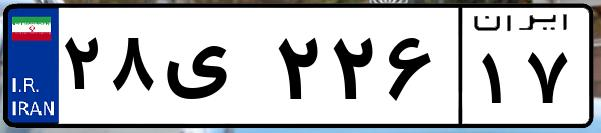1: (475, 38, 525, 113)
2: (270, 28, 330, 110), (330, 28, 385, 110), (57, 26, 110, 100)
6: (385, 28, 445, 110)
7: (525, 38, 570, 115)
8: (110, 28, 158, 98)
ی: (158, 20, 270, 120)
